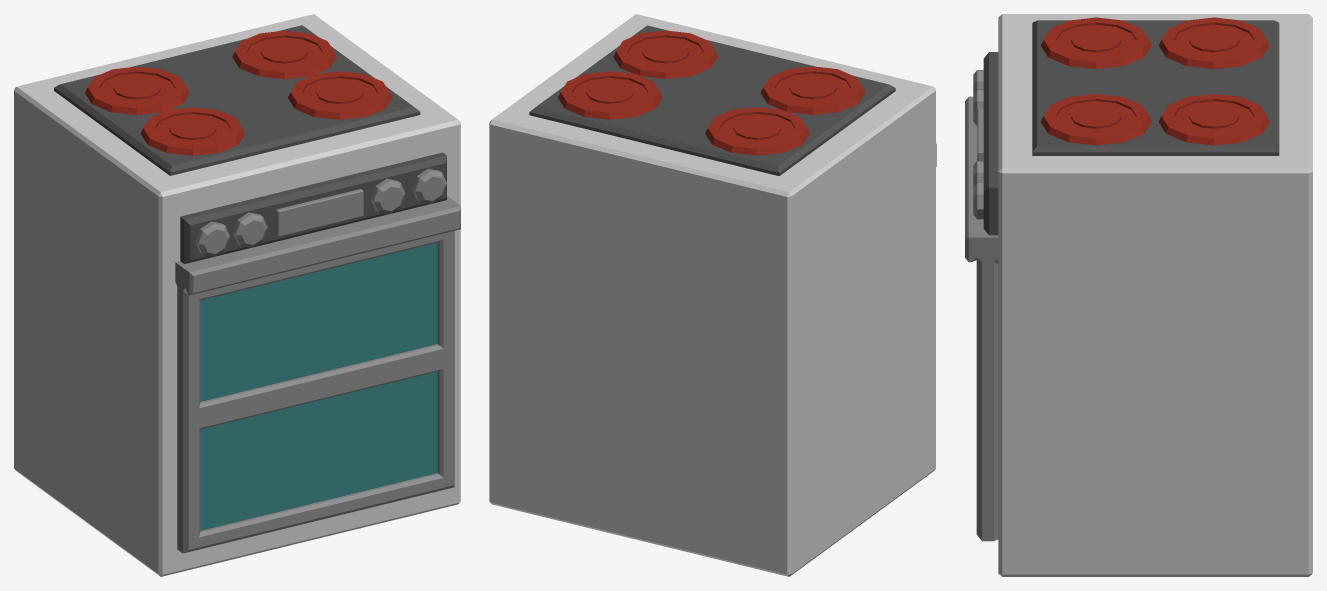
Rendered from oven.gltf.
3 renders of one model, left to right at view 1: azimuth 30°, elevation 25°; view 2: azimuth 150°, elevation 25°; view 3: azimuth 270°, elevation 25°, orthographic. The views are drawn at different scales.
Parts seen in each view (by area): view 1: Oven, Oven.001; view 2: Oven; view 3: Oven, Oven.001.
Boxes of the visible parts, x1,y1,x2,y2 form: Oven: (14, 14, 460, 576); Oven.001: (175, 196, 460, 553); Oven: (489, 14, 935, 576); Oven: (973, 14, 1312, 576); Oven.001: (965, 96, 998, 541).
Size of the model in its own units: 3.6 by 4.52 by 3.37.
